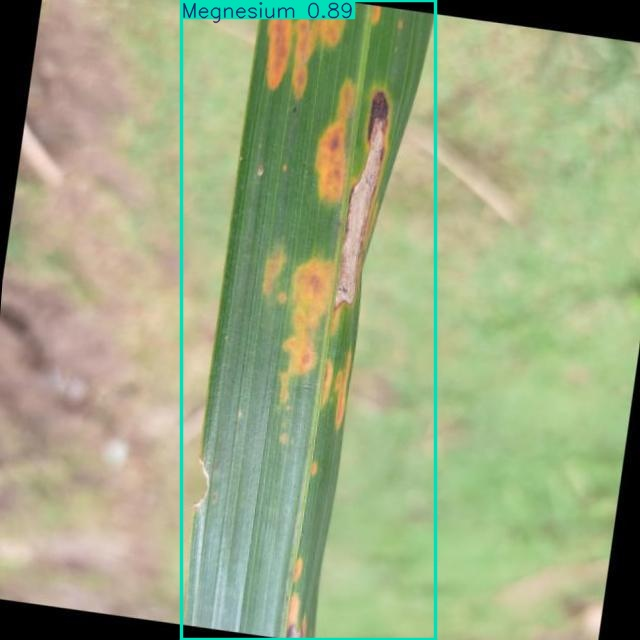Megnesium: (181, 0, 435, 639)
